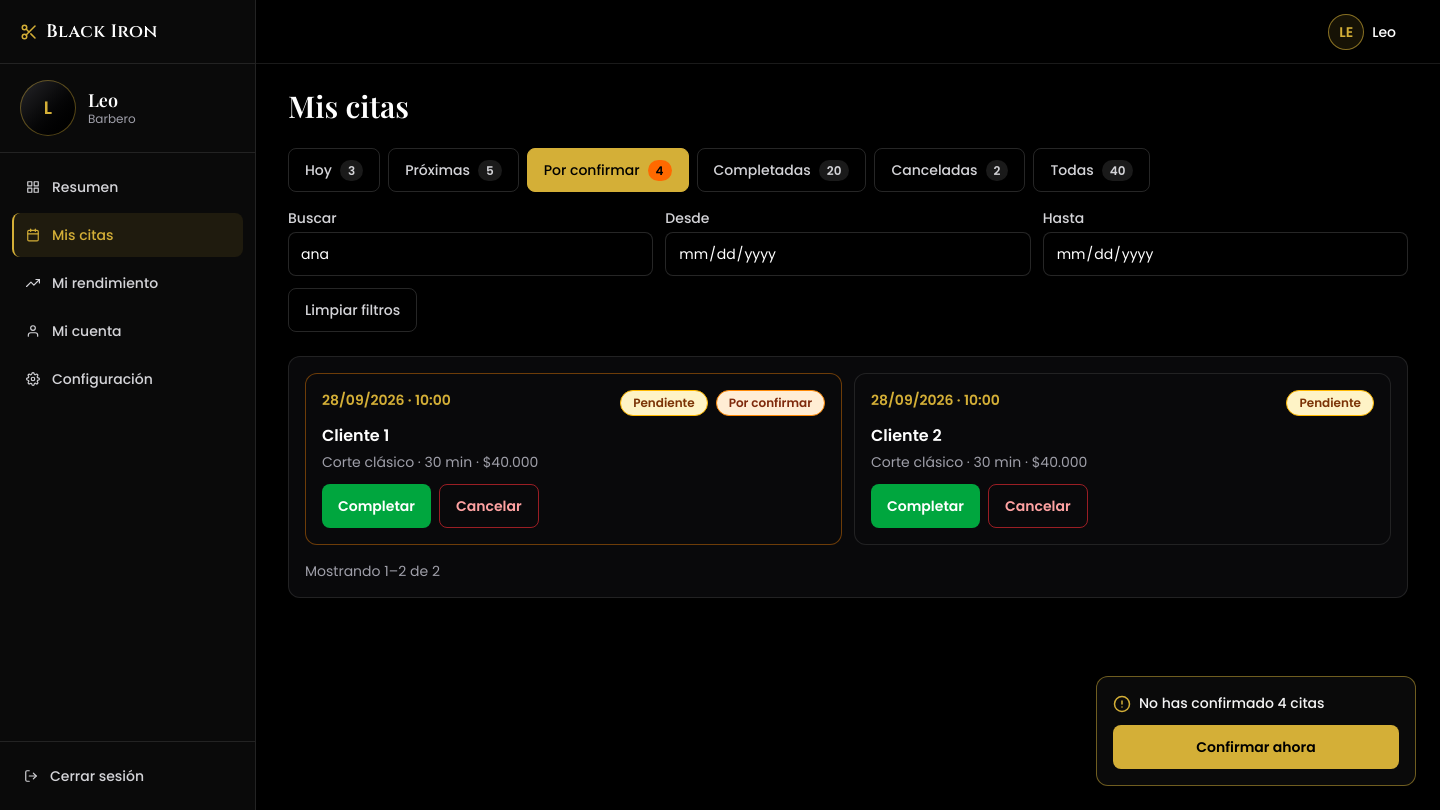
Test: /panel/citas: completar y cancelar › completar recarga la lista con la misma página y filtros y refresca el aviso persistente al instante
Expected: the text "No has confirmado 4 citas" is shown, [1139, 693, 1325, 713]
Expected: the text "Mostrando 1–2 de 2" is shown, [305, 561, 440, 581]
Click the button with aria-label "Completar la cita de Cliente 1" at (376, 506), box [322, 484, 431, 528]
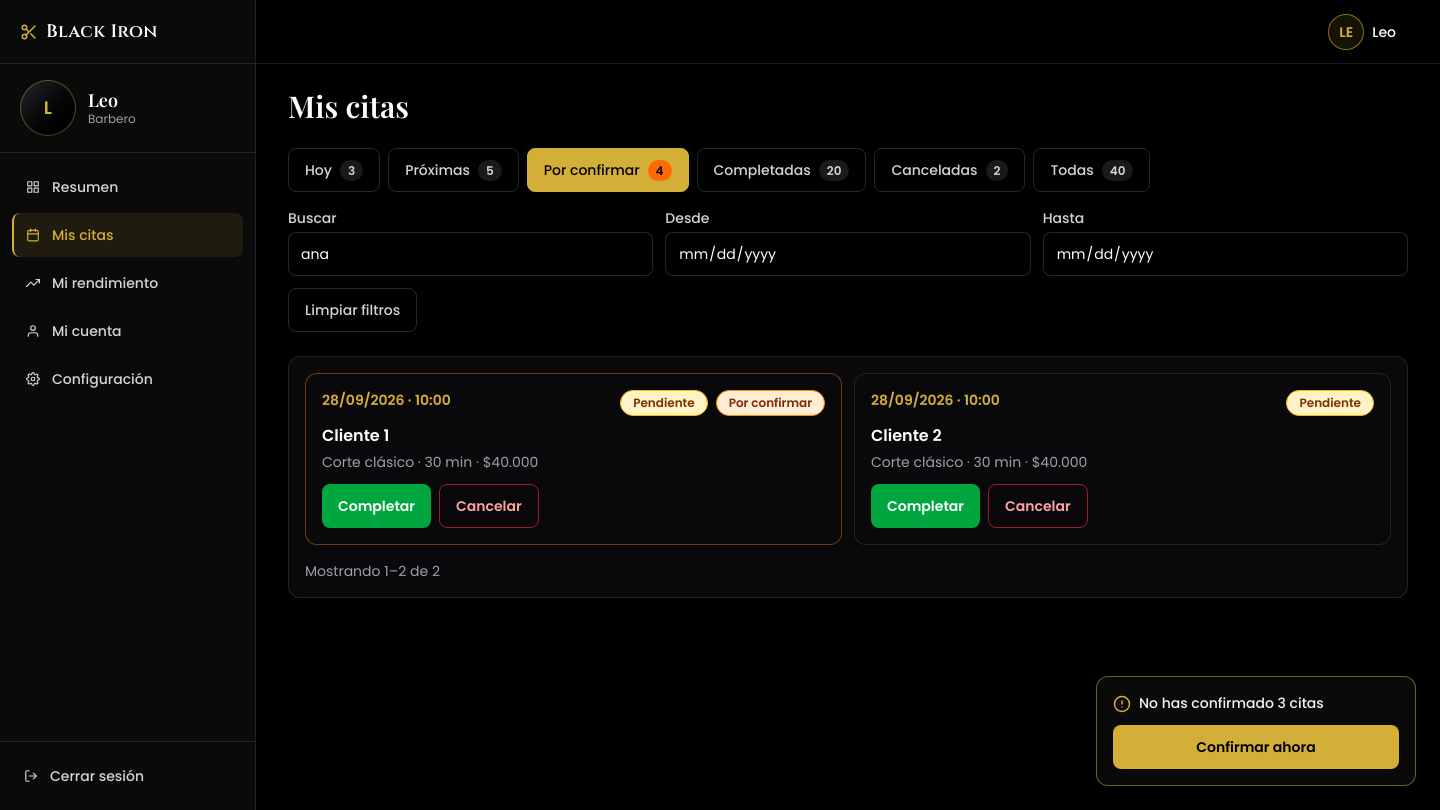
Expected: the text "No has confirmado 3 citas" is shown, [1139, 693, 1324, 713]
